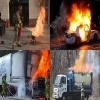fire: (69, 3, 91, 40), (31, 50, 50, 83), (68, 50, 92, 72), (31, 4, 45, 38), (33, 97, 45, 99)
